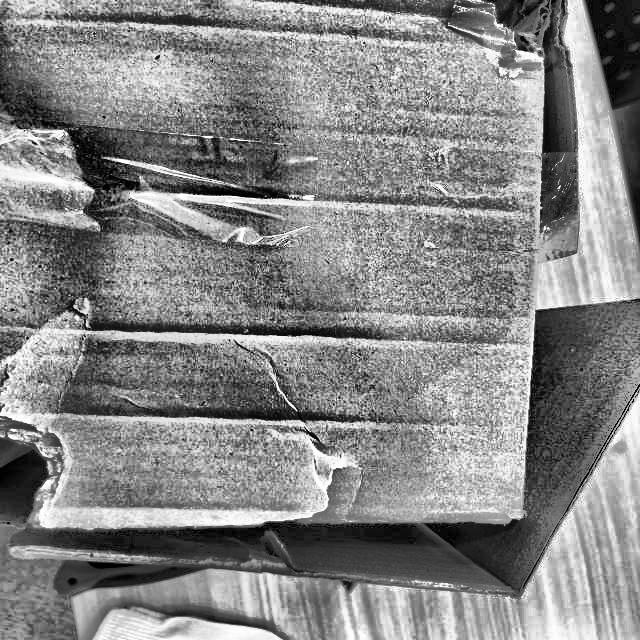box: (0, 1, 639, 606)
hole: (1, 433, 335, 563)
